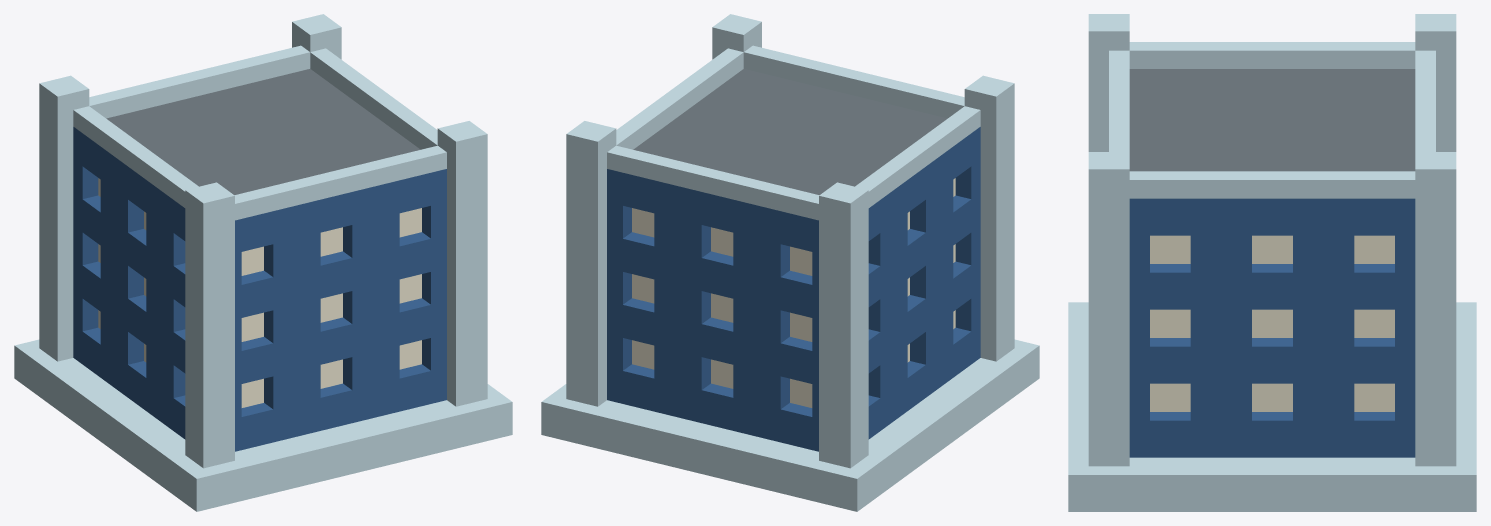
Rendered from Building_11_Base (Blue).obj.
3 views of the same model, side by side, from view 1: azimuth 30°, elevation 25°; view 2: azimuth 150°, elevation 25°; view 3: azimuth 270°, elevation 25° (orthographic). The views are drawn at different scales.
Visible parts, largest first — view 1: Building_11_Base_(Blue); view 2: Building_11_Base_(Blue); view 3: Building_11_Base_(Blue).
Boxes of the visible parts, x1,y1,x2,y2 form: Building_11_Base_(Blue): (14,14,512,511); Building_11_Base_(Blue): (541,14,1039,511); Building_11_Base_(Blue): (1068,14,1476,511).
Size of the model in its own units: 2 by 1.8 by 2.
